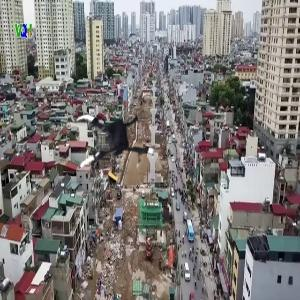drone: (70, 94, 166, 190)
